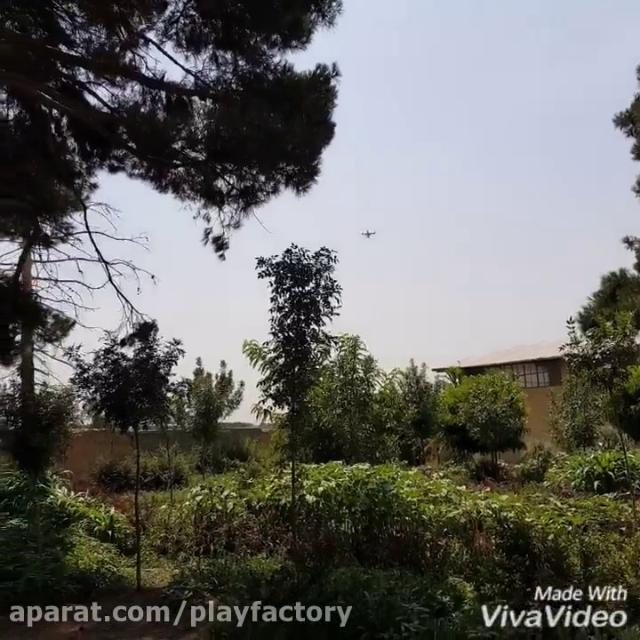drone: (359, 225, 377, 241)
